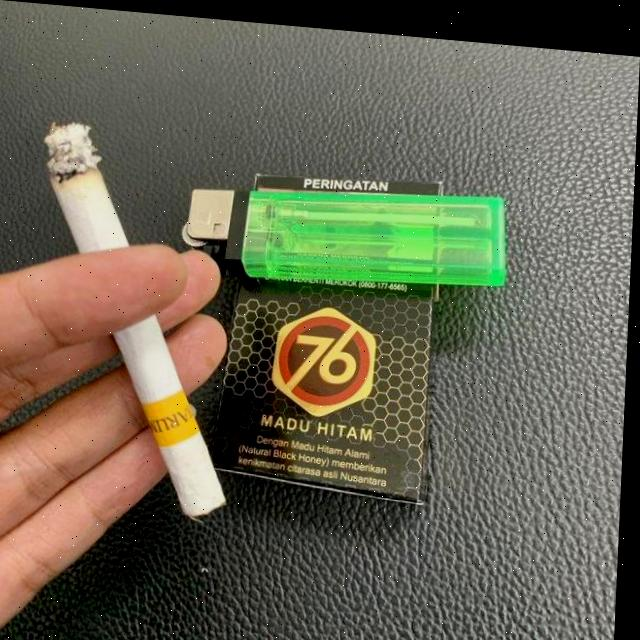cigarette: (35, 120, 244, 517)
